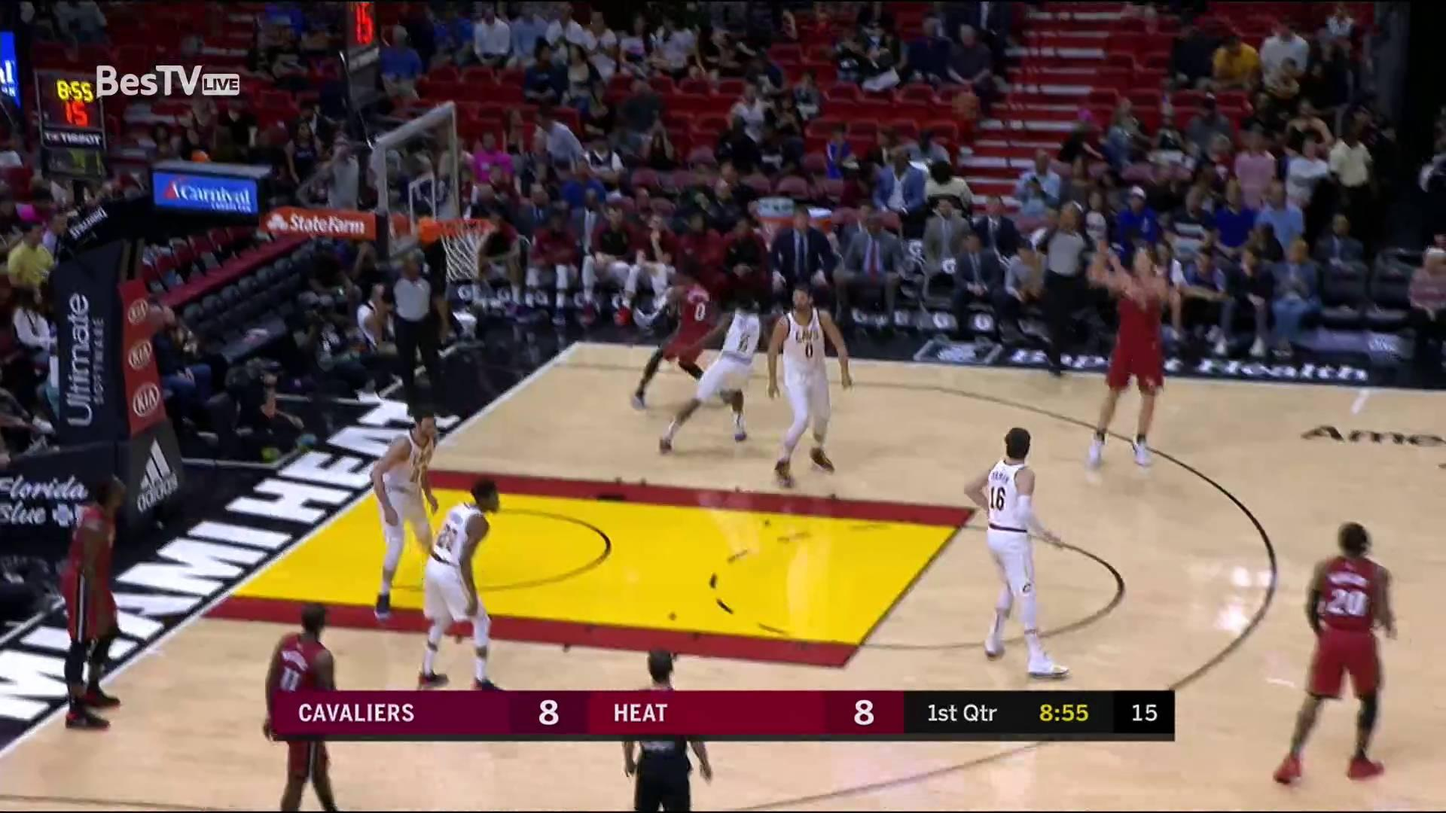basketball: (950, 89, 983, 123)
